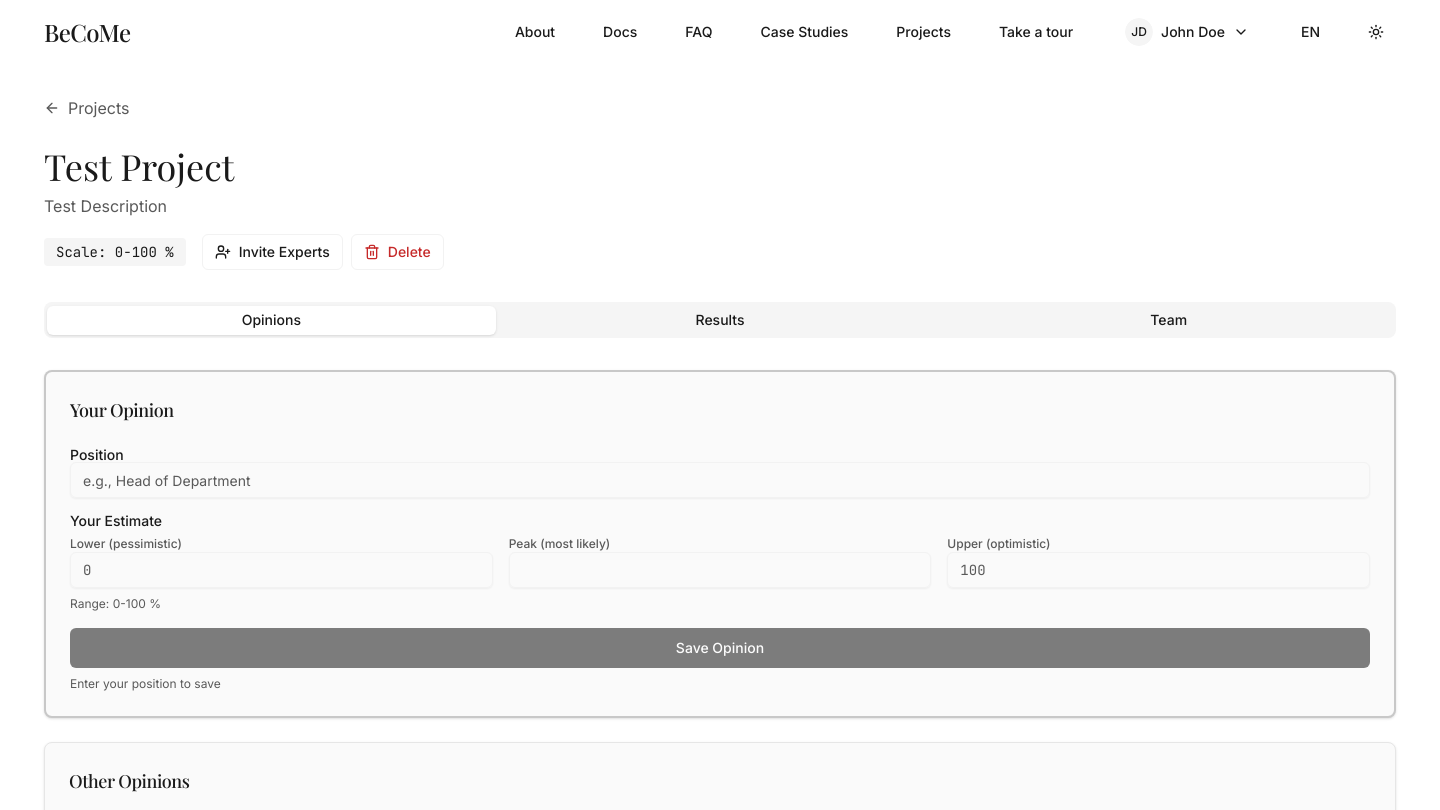
it: ProjectDetail - Mobile Team Tab › opens profile dialog from mobile team tab member click
Click the tab "Team" at (1169, 320), box [944,306,1393,334]
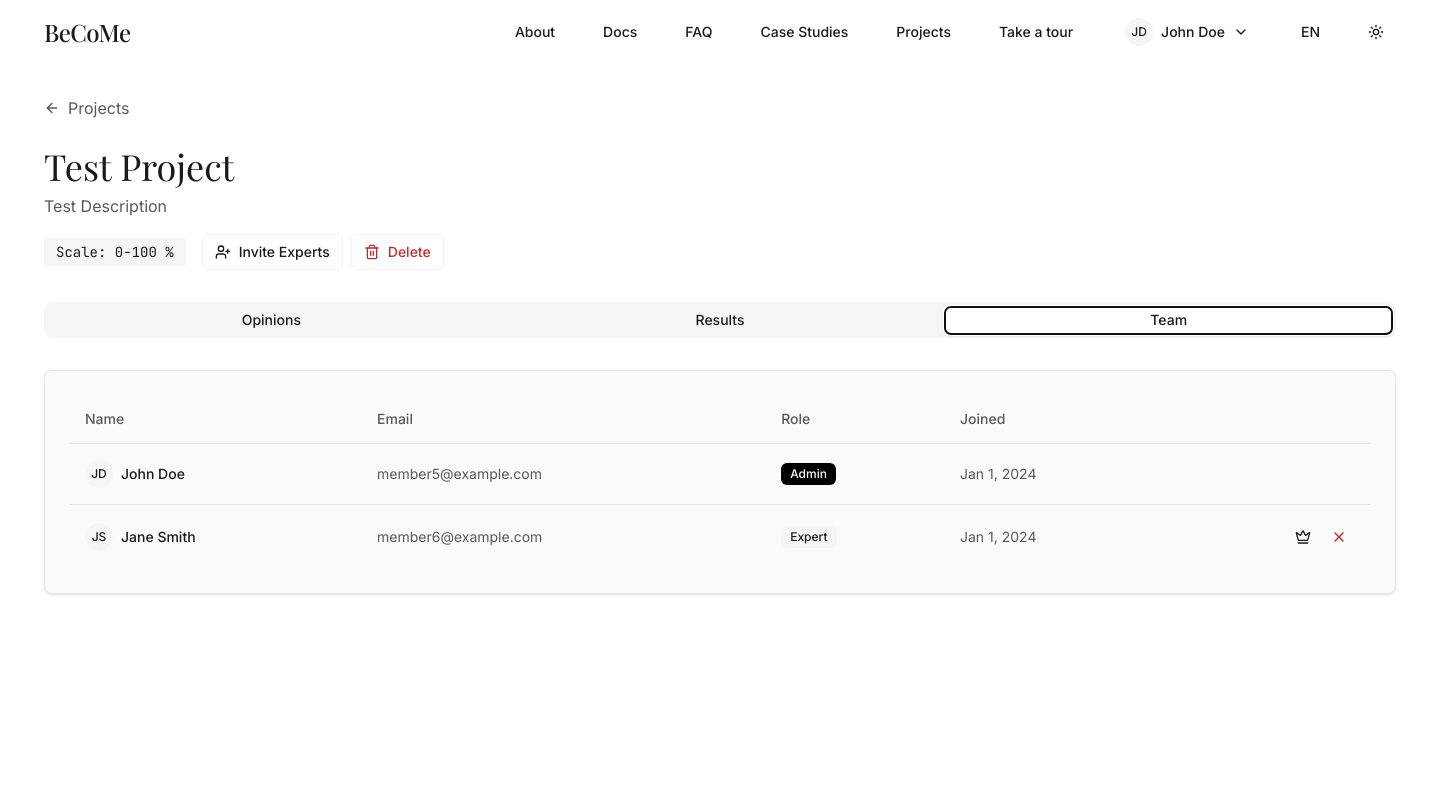
Click the button with aria-label "view profile of jane smith" at (158, 536), box [121,526,196,546]
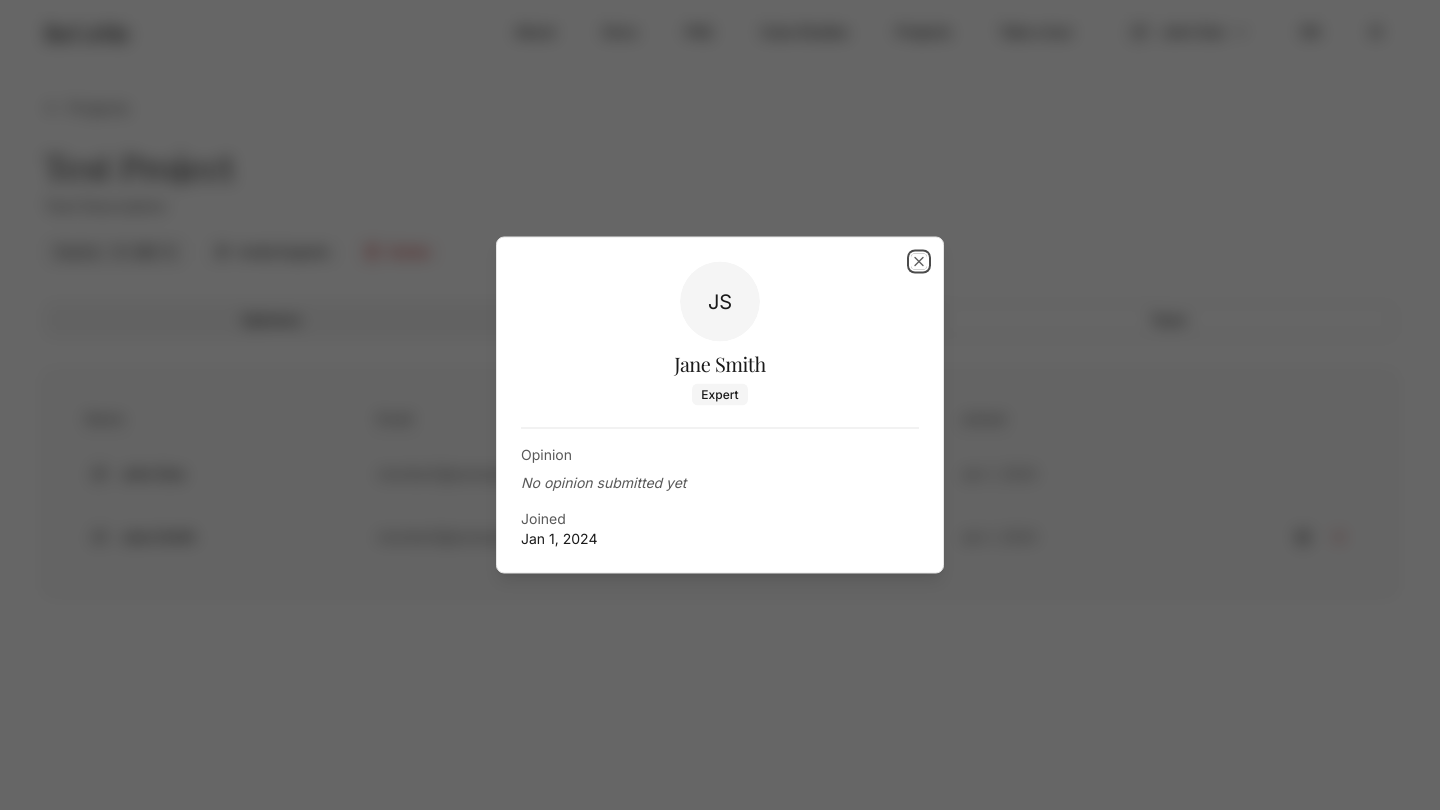
Expected: the dialog is shown, [496,236,944,574]
